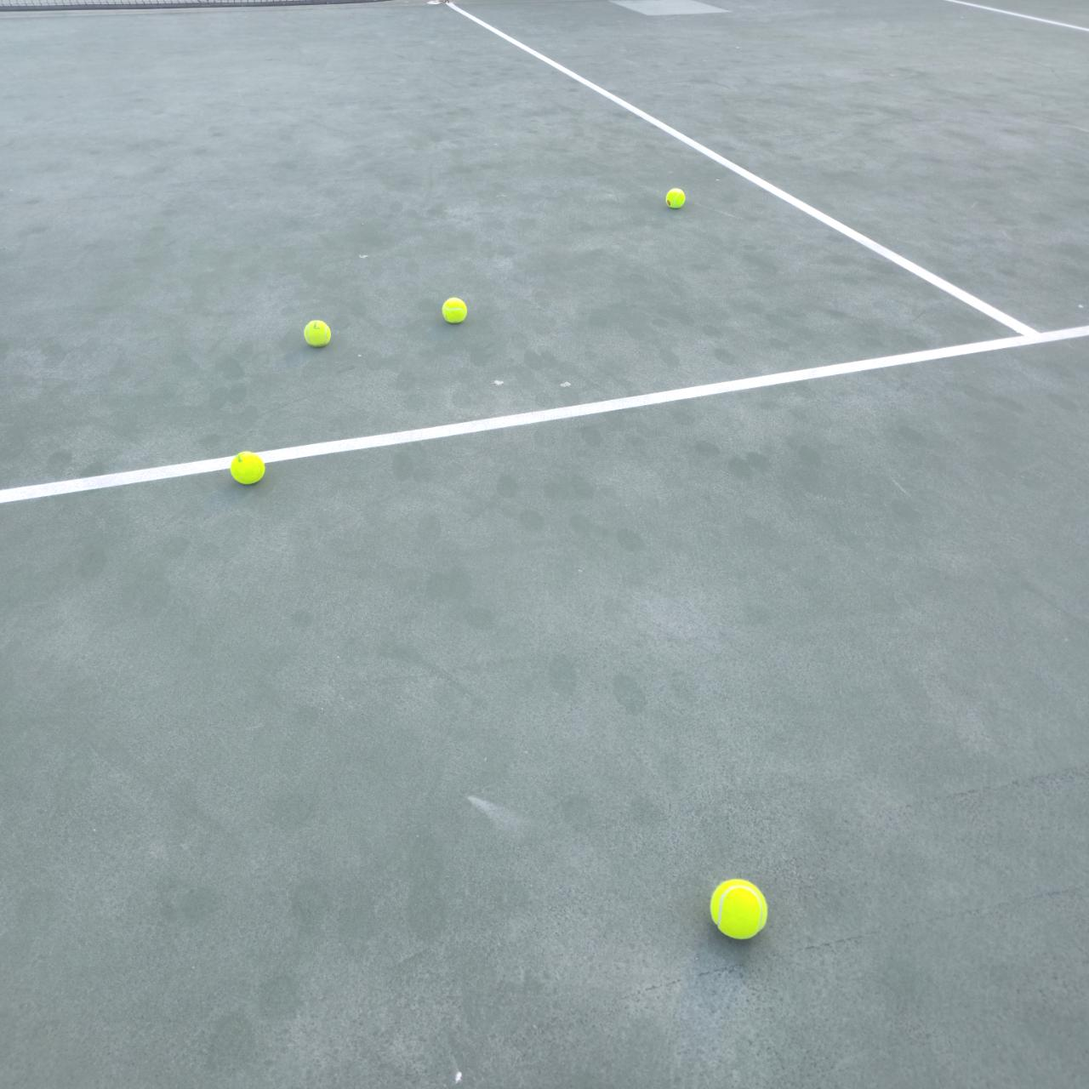tennis-ball: (710, 875, 770, 940), (230, 448, 267, 485), (304, 316, 334, 347), (442, 294, 470, 324), (665, 185, 687, 209)
